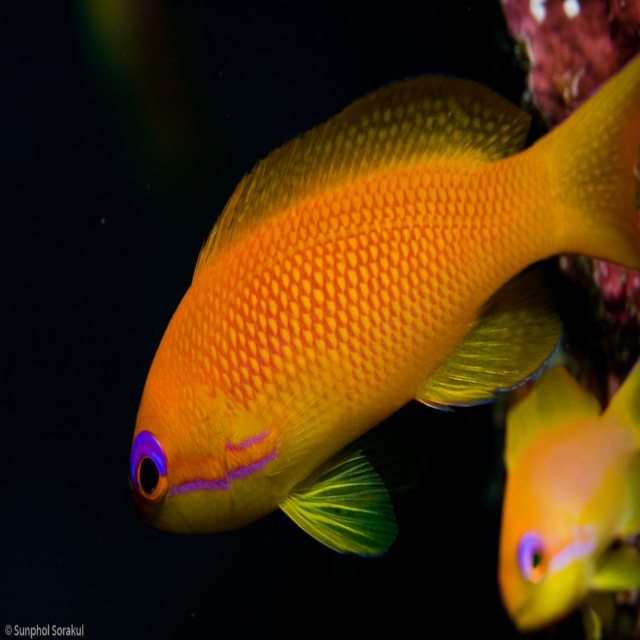Goldfish: (114, 70, 637, 574), (505, 358, 639, 635)
